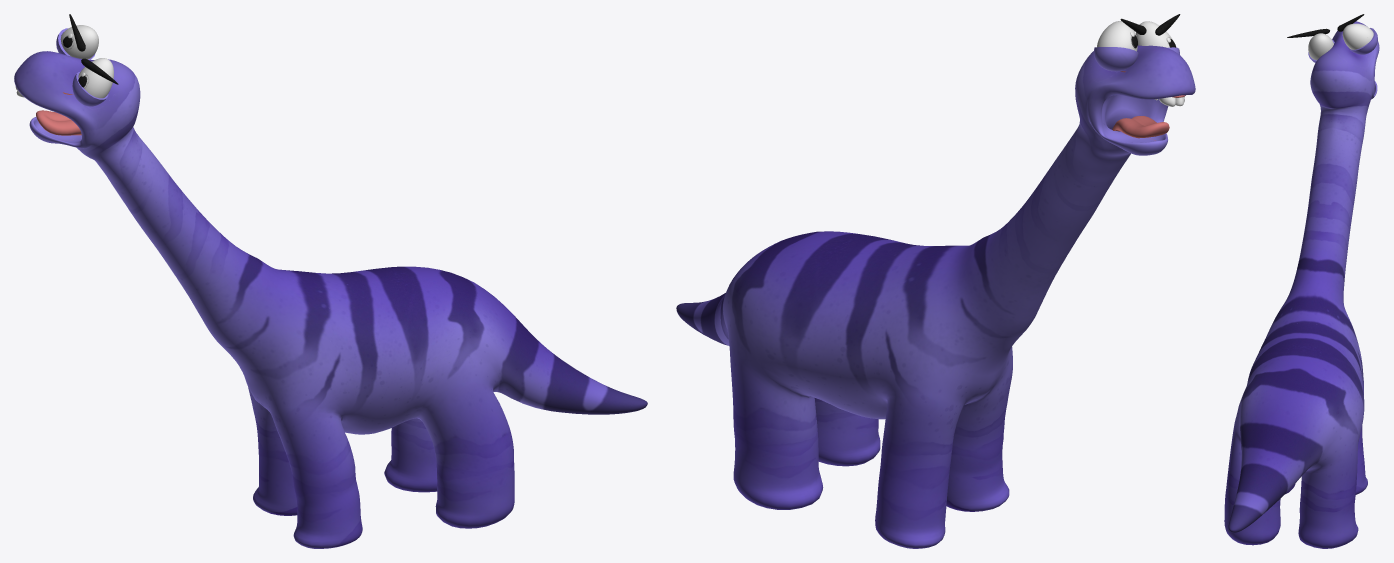
The model's file is bronto.glb.
3 views of the same model, side by side, from view 1: azimuth 30°, elevation 25°; view 2: azimuth 150°, elevation 25°; view 3: azimuth 270°, elevation 25° (orthographic). The views are drawn at different scales.
Visible parts, largest first — view 1: Bronto_Unity_pose_v01:Bronto_Rig_018:body_high, Bronto_Unity_pose_v01:Bronto_Rig_018:l_eye_low1, Bronto_Unity_pose_v01:Bronto_Rig_018:r_eye_low1, Bronto_Unity_pose_v01:Bronto_Rig_018:tongue_low1; view 2: Bronto_Unity_pose_v01:Bronto_Rig_018:body_high, Bronto_Unity_pose_v01:Bronto_Rig_018:tongue_low1, Bronto_Unity_pose_v01:Bronto_Rig_018:rt_loLid_low1, Bronto_Unity_pose_v01:Bronto_Rig_018:r_eye_low1; view 3: Bronto_Unity_pose_v01:Bronto_Rig_018:body_high, Bronto_Unity_pose_v01:Bronto_Rig_018:r_eye_low1, Bronto_Unity_pose_v01:Bronto_Rig_018:l_eye_low1, Bronto_Unity_pose_v01:Bronto_Rig_018:rt_loLid_low1.
Part boxes in pixels (x1,y1,x2,y2): Bronto_Unity_pose_v01:Bronto_Rig_018:body_high: (14,51,647,548); Bronto_Unity_pose_v01:Bronto_Rig_018:l_eye_low1: (78,58,113,98); Bronto_Unity_pose_v01:Bronto_Rig_018:r_eye_low1: (60,25,98,59); Bronto_Unity_pose_v01:Bronto_Rig_018:tongue_low1: (36,110,81,135); Bronto_Unity_pose_v01:Bronto_Rig_018:body_high: (676,45,1195,548); Bronto_Unity_pose_v01:Bronto_Rig_018:tongue_low1: (1112,116,1169,138); Bronto_Unity_pose_v01:Bronto_Rig_018:rt_loLid_low1: (1094,47,1138,71); Bronto_Unity_pose_v01:Bronto_Rig_018:r_eye_low1: (1097,21,1137,51); Bronto_Unity_pose_v01:Bronto_Rig_018:body_high: (1224,21,1379,548); Bronto_Unity_pose_v01:Bronto_Rig_018:r_eye_low1: (1342,23,1373,49); Bronto_Unity_pose_v01:Bronto_Rig_018:l_eye_low1: (1308,33,1333,60); Bronto_Unity_pose_v01:Bronto_Rig_018:rt_loLid_low1: (1348,28,1377,54).
Bounding box in the file's own units: 2.75 × 2.55 × 0.8924.
2 materials, 2 textured.
